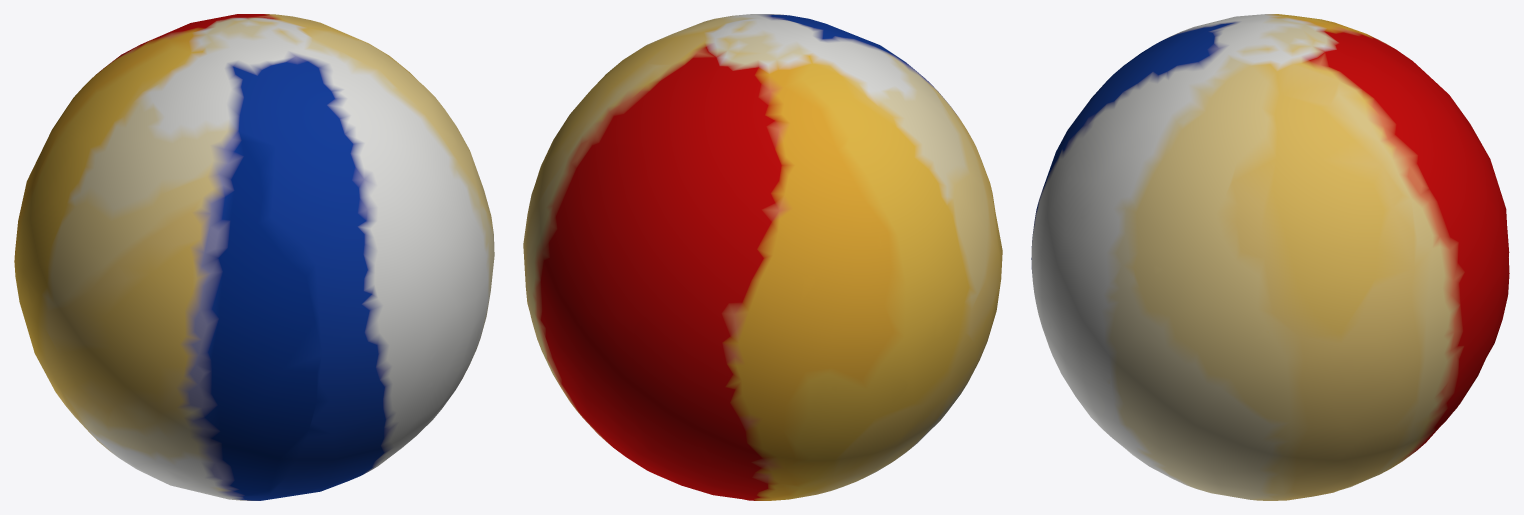
Rendered from gen3d-beach-ball-lod0.glb.
The picture shows the model from 3 angles, left to right: view 1: azimuth 30°, elevation 25°; view 2: azimuth 150°, elevation 25°; view 3: azimuth 270°, elevation 25°; orthographic projection.
Parts seen in each view (by area): view 1: part_0; view 2: part_0; view 3: part_0.
Part boxes in pixels (x1=…): part_0: x1=14, y1=14, x2=494, y2=500; part_0: x1=523, y1=14, x2=1002, y2=500; part_0: x1=1031, y1=14, x2=1509, y2=500.
Bounding box in the file's own units: 0.9787 × 0.9996 × 0.9762.
